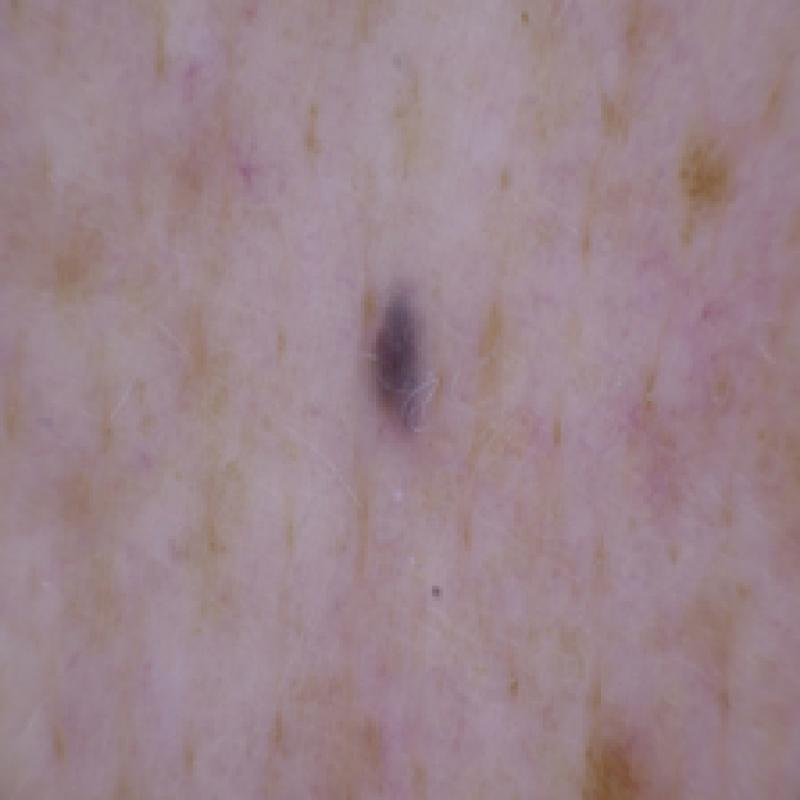benign: (327, 265, 477, 470)
